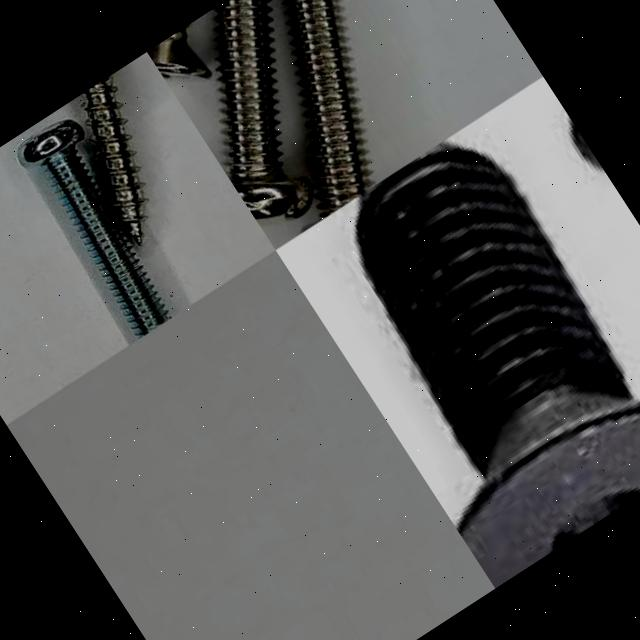Screw: (354, 139, 640, 588), (18, 119, 170, 339), (218, 0, 312, 218), (287, 0, 372, 220), (83, 75, 144, 245), (147, 25, 209, 77)
